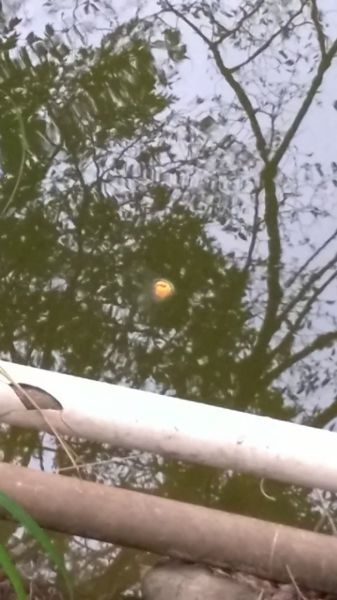eggs: (148, 274, 179, 305)
